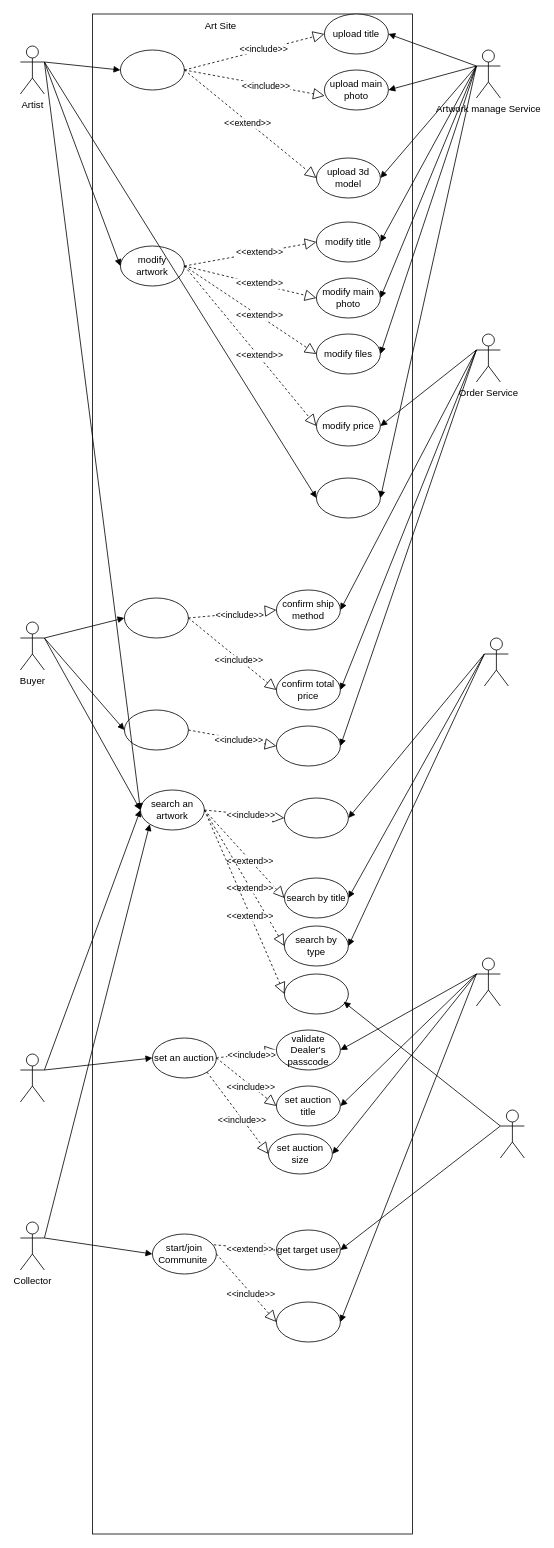
This 554x1548 diagram has some shape labels left out. Each missing label, with the centre of its shape:
"Artwork service" belongs at [496,661].
"cancle an order" belongs at [156,729].
"confirm order validation" belongs at [308,745].
"Dealer" belongs at [32,1077].
"delete artwork" belongs at [348,497].
"get target chat id" belongs at [308,1321].
"make an order" belongs at [156,617].
"Real-time service" belongs at [488,981].
"search by id" belongs at [316,817].
"search by uploader" belongs at [316,993].
"upload artwork" belongs at [152,69].
"User Service" belongs at [512,1133].
